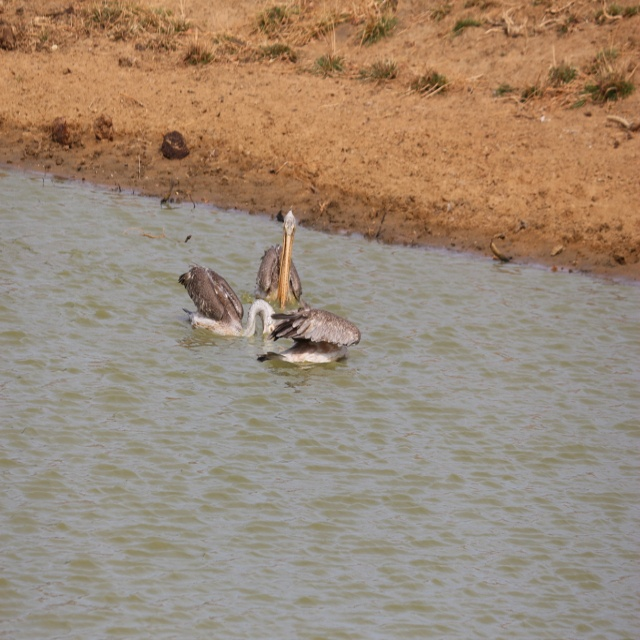Duck: (168, 247, 260, 333), (261, 211, 320, 305), (256, 306, 362, 357)
